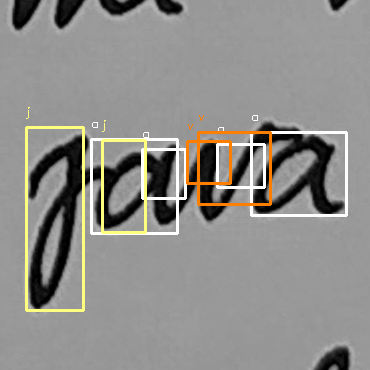a: (247, 127, 350, 221), (92, 140, 182, 231)
j: (19, 128, 90, 313)
v: (190, 117, 278, 225)
